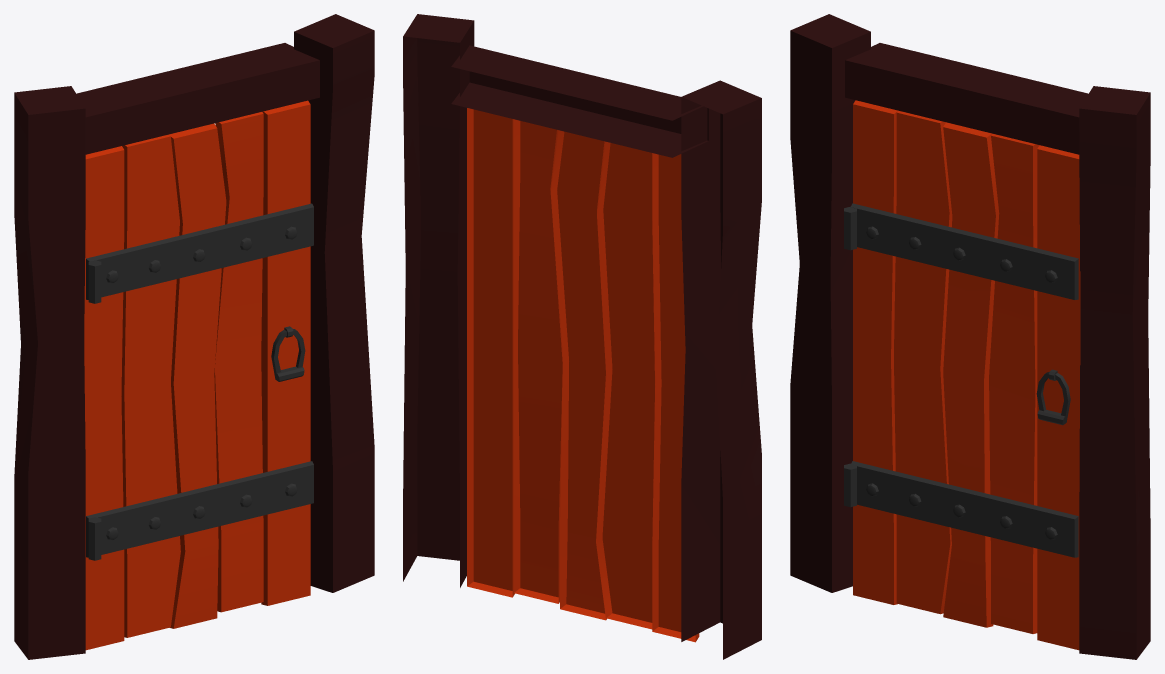
The model's file is Towr_Doors.fbx.
The picture shows the model from 3 angles, left to right: view 1: azimuth 30°, elevation 25°; view 2: azimuth 150°, elevation 25°; view 3: azimuth 330°, elevation 25°; orthographic projection.
Visible parts, largest first — view 1: Towr_Doors; view 2: Towr_Doors; view 3: Towr_Doors.
Part boxes in pixels (left/top/right/bottom): Towr_Doors: left=14, top=14, right=374, bottom=659; Towr_Doors: left=403, top=14, right=761, bottom=659; Towr_Doors: left=790, top=14, right=1150, bottom=659.
Bounding box in the file's own units: 258 × 395 × 50.33.
